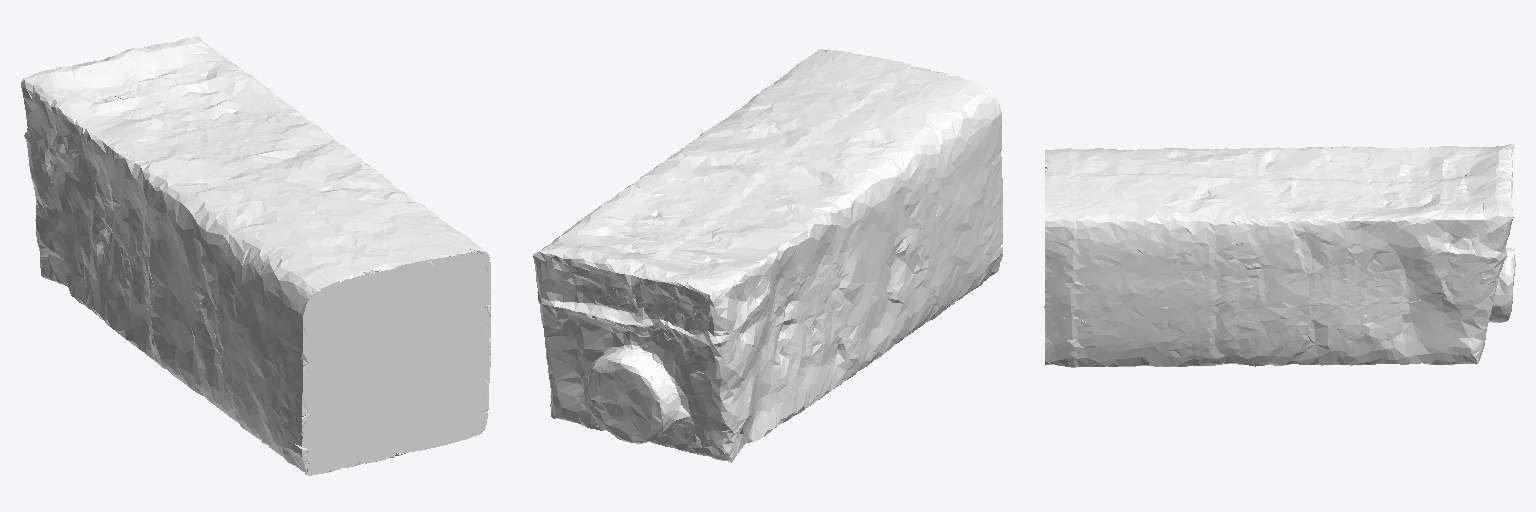
robot.urdf — milk:
<?xml version="1.0" ?>
<robot name="milk">
 <link name="baseLink">
   <contact>
     <lateral_friction value="0.5"/>
   </contact>
   <inertial>
     <origin rpy="0 0 0" xyz="0.001877 0.096625 -0.008149"/>
      <mass value="1.0"/>
      <inertia ixx="0.000004" ixy="-0.000000" ixz="0.000000" iyy="0.000001" iyz="-0.000000" izz="0.000004"/>
   </inertial>
   <visual>
     <origin rpy="0 0 0" xyz="0 0 0"/>
     <geometry>
       <mesh filename="milk.obj" scale="1.0 1.0 1.0"/>
     </geometry>
      <material name="white">
       <color rgba="1 1 1 1"/>
     </material>
   </visual>
   <collision>
     <origin rpy="0 0 0" xyz="0 0 0"/>
     <geometry>
       <mesh filename="milk_vhacd2.obj" scale="1.0 1.0 1.0"/>
     </geometry>
   </collision>
 </link>
</robot>

--- Facts derived from the render (not from the file) ---
Views: 3 orthographic renders of the robot side by side, from view 1: azimuth 30°, elevation 25°; view 2: azimuth 150°, elevation 25°; view 3: azimuth 270°, elevation 25°.
Robot: milk — 1 links, 0 joints (none); root link baseLink; default pose: every joint at zero.
Visible links, largest first — view 1: baseLink; view 2: baseLink; view 3: baseLink.
Boxes of the visible links, x1,y1,x2,y2 form: baseLink: (21,36,490,475); baseLink: (533,49,1002,462); baseLink: (1044,144,1515,367).
Bounding box of the posed robot: 0.08 × 0.199 × 0.0758 m (x, y, z).
1 mesh visuals loaded from 1 distinct referenced files (1 OBJ).